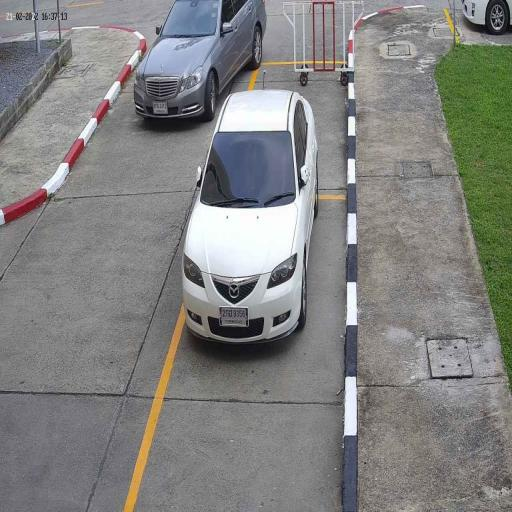car: (181, 89, 318, 347), (133, 0, 267, 120)
